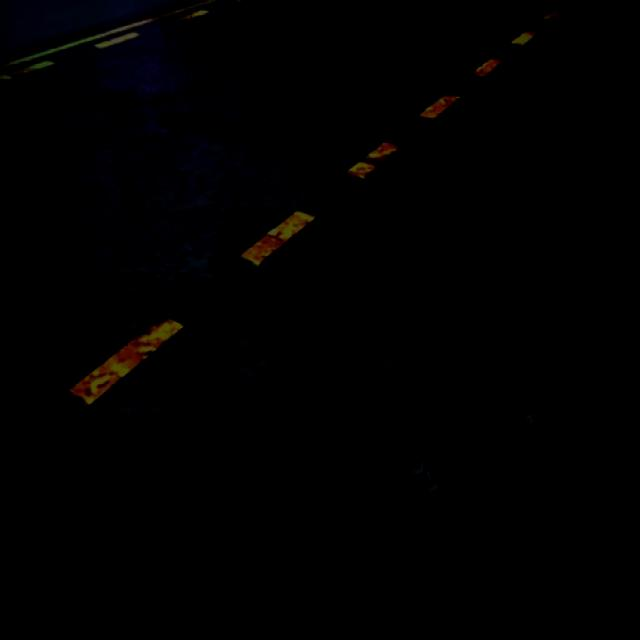Pothole: (304, 258, 638, 568)
